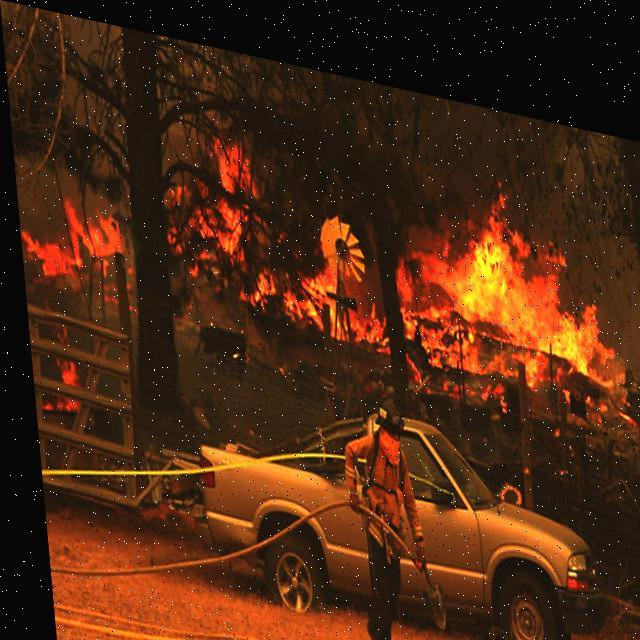Fire: (383, 136, 640, 418), (197, 119, 379, 339), (14, 177, 125, 299), (28, 322, 79, 417)
